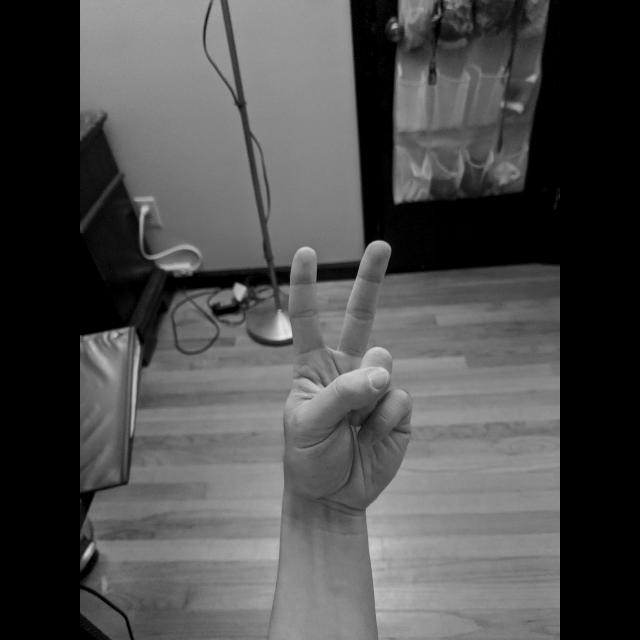V: (277, 236, 415, 518)
